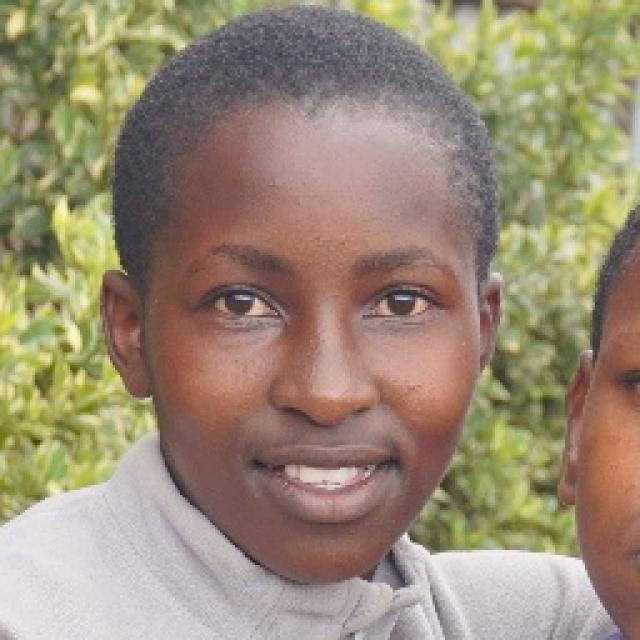earlobe: (121, 351, 156, 400), (558, 448, 581, 507)
eye: (203, 284, 281, 321), (364, 286, 436, 320)
nose: (267, 399, 386, 464)
wholeear: (101, 269, 157, 400), (557, 349, 596, 507), (476, 271, 506, 374)
